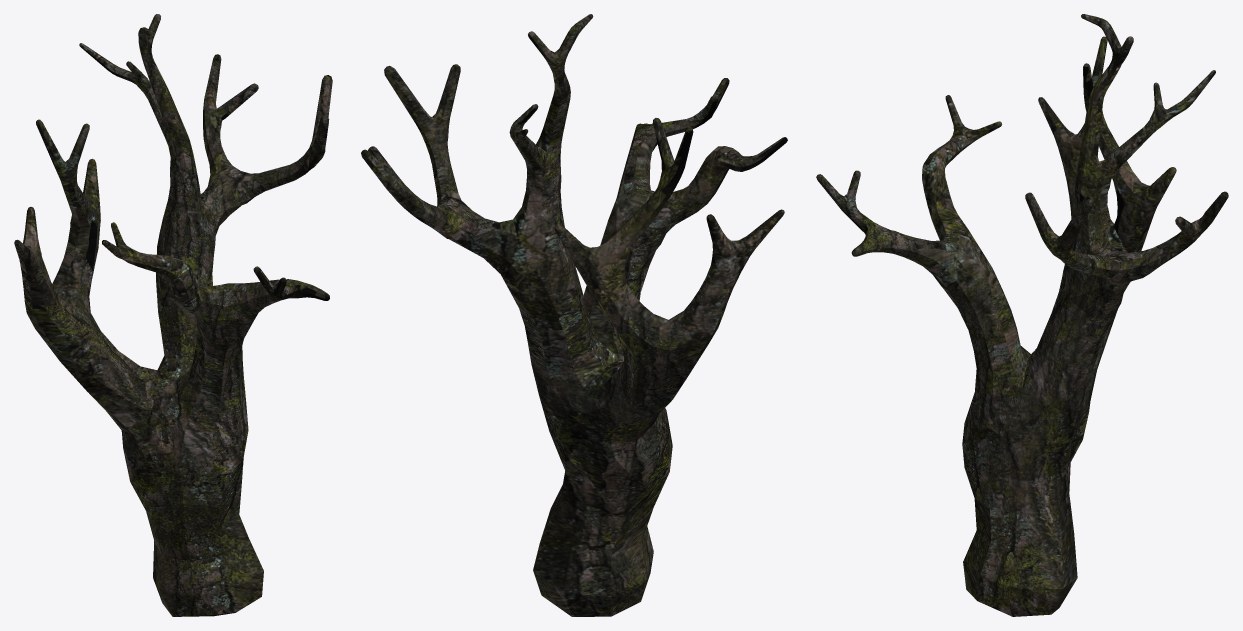
The model's file is tree5.obj.
The picture shows the model from 3 angles, left to right: view 1: azimuth 30°, elevation 25°; view 2: azimuth 150°, elevation 25°; view 3: azimuth 270°, elevation 25°; orthographic projection. The views are drawn at different scales.
Parts seen in each view (by area): view 1: Cube.004; view 2: Cube.004; view 3: Cube.004.
Boxes of the visible parts, bbox=[...] form: Cube.004: bbox=[14, 14, 332, 616]; Cube.004: bbox=[361, 14, 787, 616]; Cube.004: bbox=[816, 14, 1228, 616].
Size of the model in its own units: 5.45 by 8.64 by 5.57.
